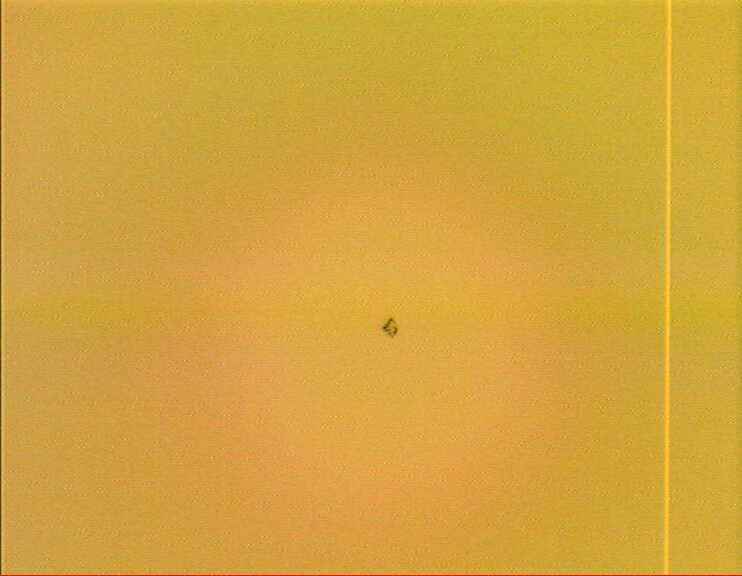PIQ PARTICLE: (373, 310, 405, 342)
